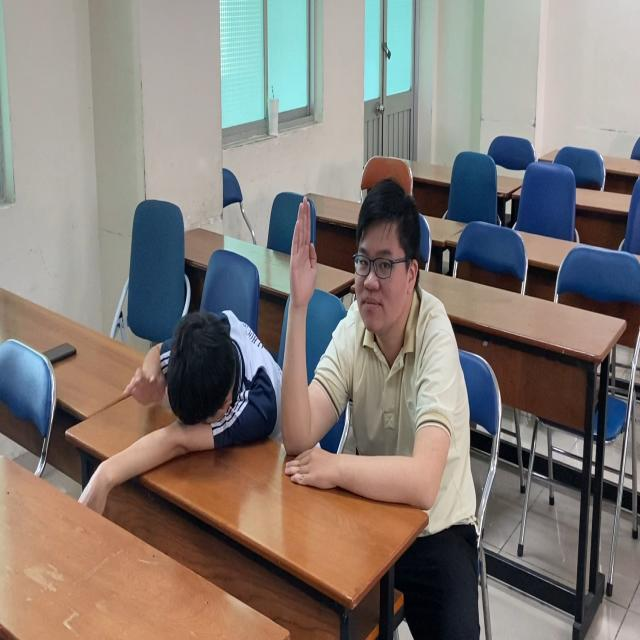raise_hand: (285, 180, 459, 512)
sleep: (101, 309, 284, 468)
